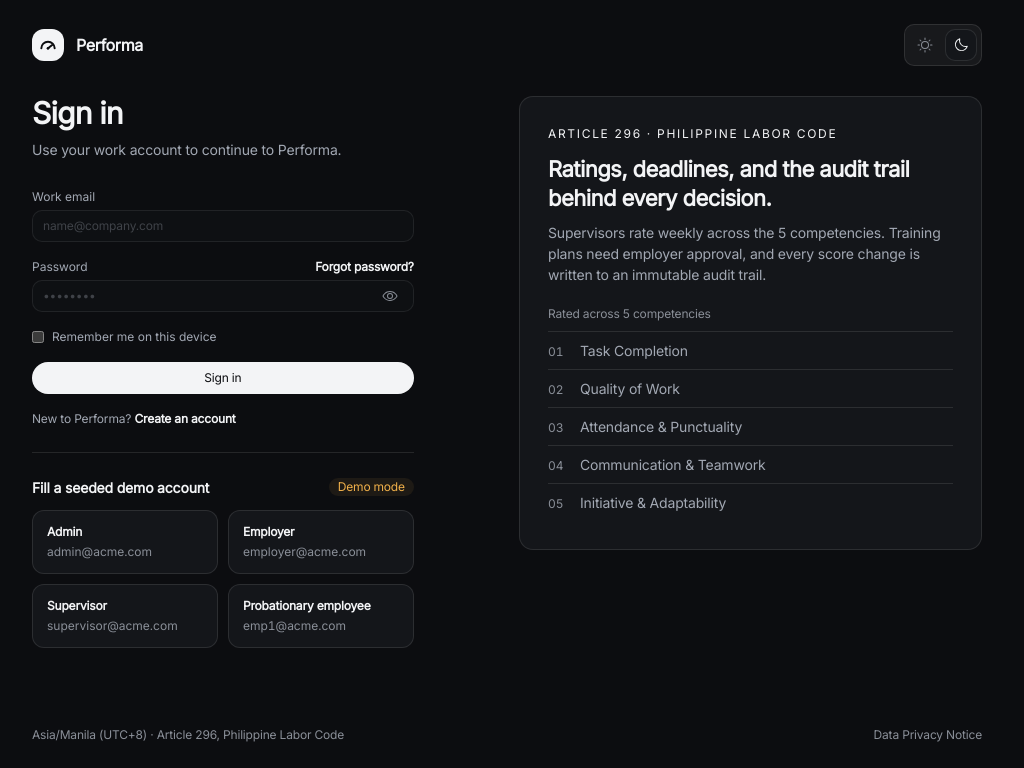
Login › shows an alert on failed authentication
Type "wrong@acme.com" into the field labelled "Work email" at (223,226), box x1=32 y1=210 x2=414 y2=242
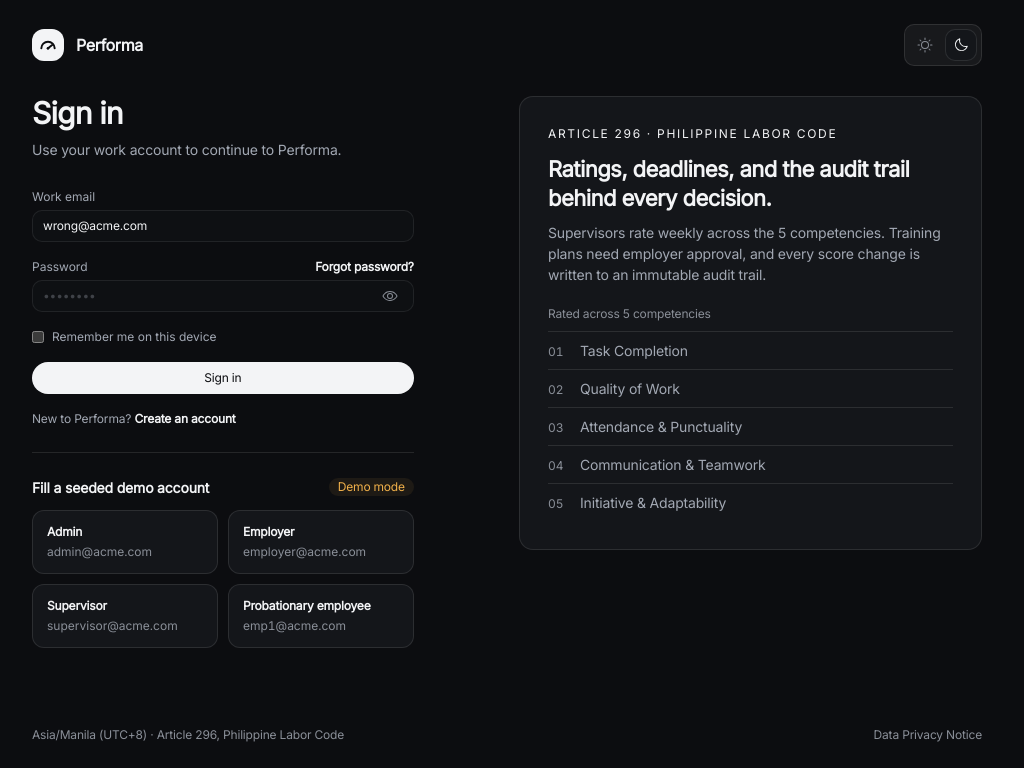
Type "nope" into the password field labelled "Password" at (223,296), box x1=32 y1=280 x2=414 y2=312
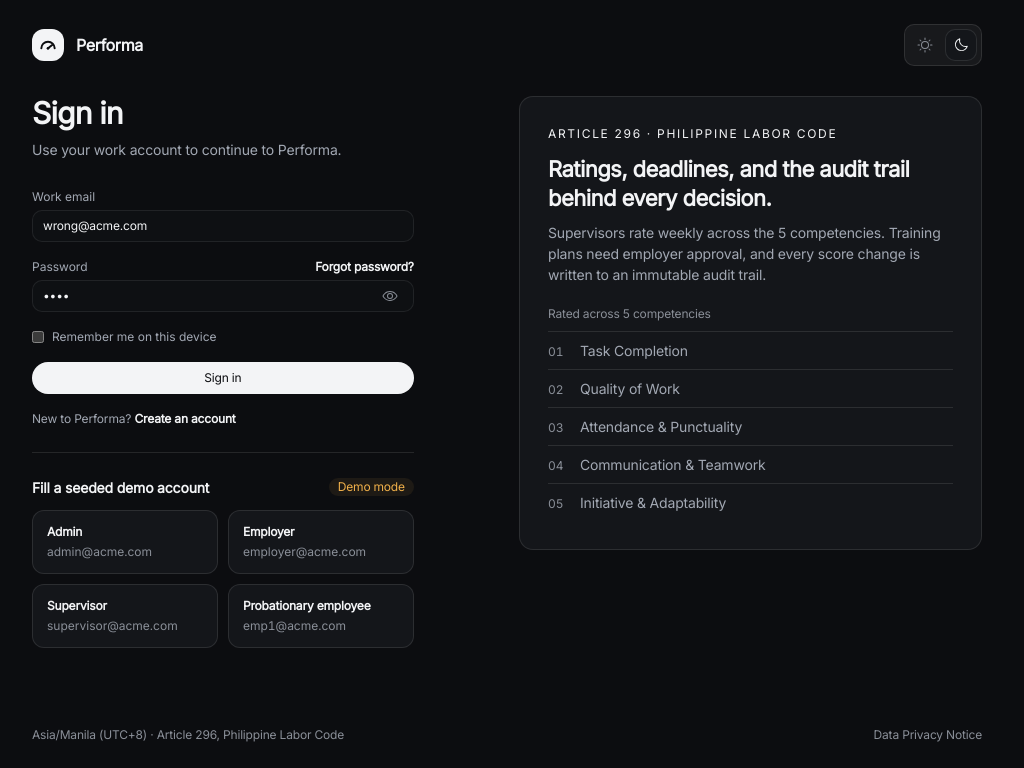
Click the button "Sign in" at (223,378), box x1=32 y1=362 x2=414 y2=394
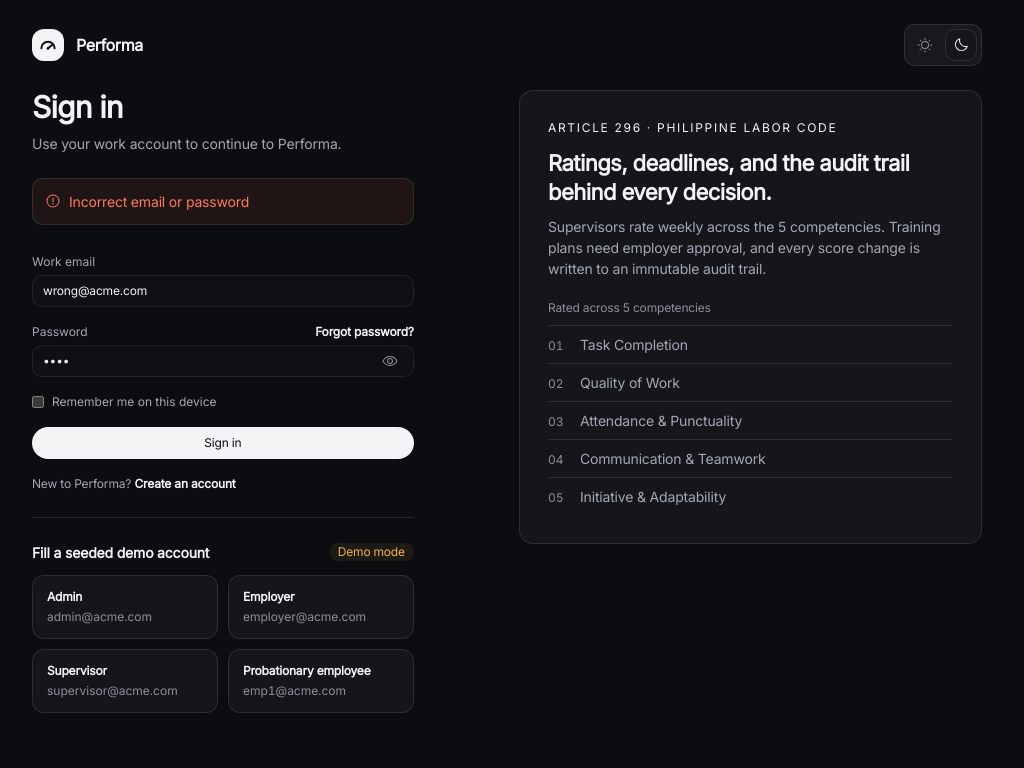
Check: the message reads "Incorrect email or password", box x1=69 y1=192 x2=249 y2=210
